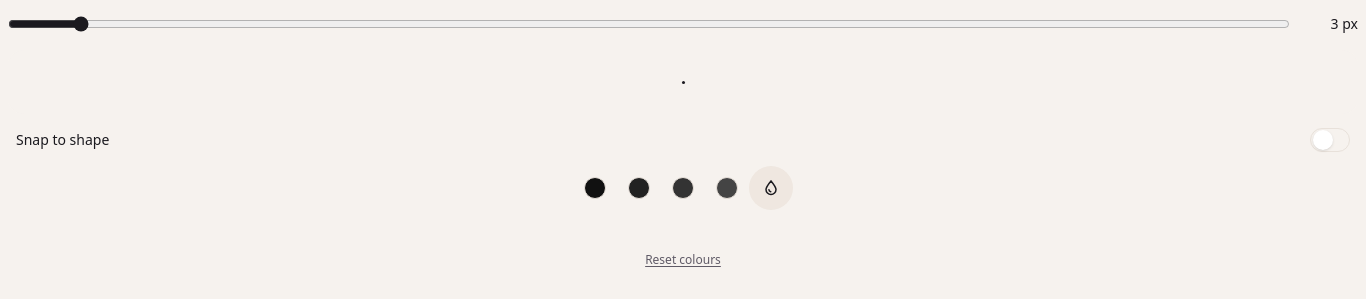
ToolOptions text styles › Reset colours restores the three defaults
The width and height of the screenshot is (1366, 299).
Click the button "Reset colours" at x=683, y=260, box [629,238,737,282]
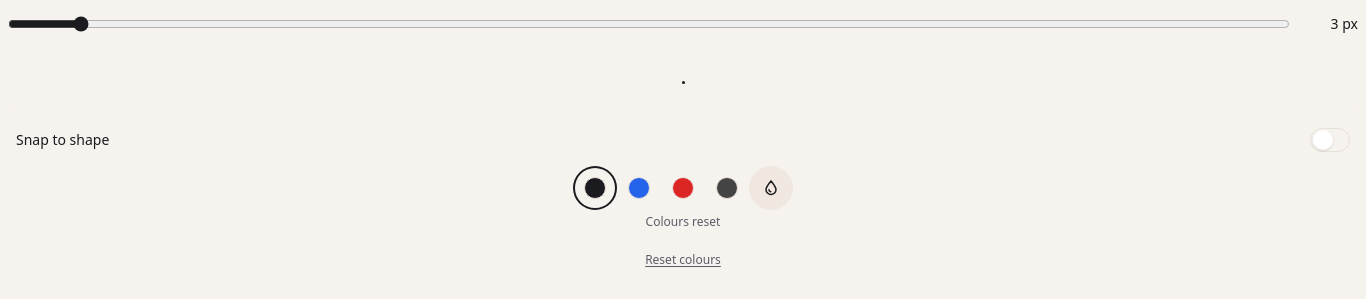
Expected: the message with test id "preset-message" reads "Colours reset", [646,213,720,230]
